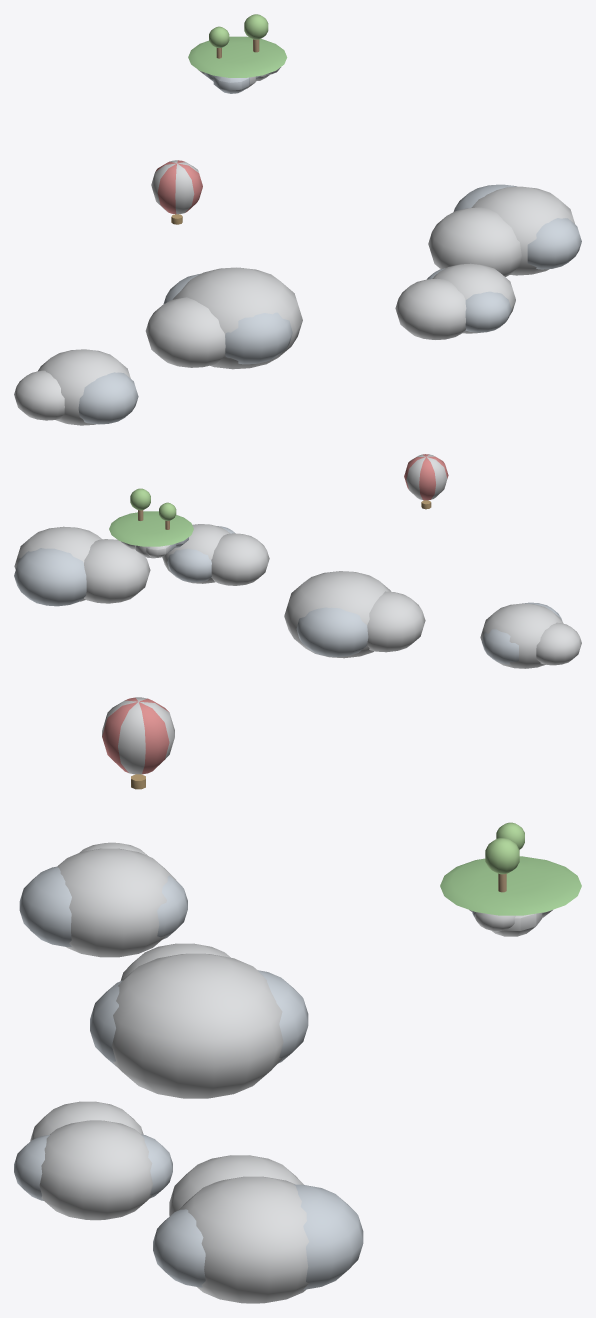
File: clouds-near.glb
The picture shows the model from 3 angles, top to bottom: view 1: azimuth 30°, elevation 25°; view 2: azimuth 150°, elevation 25°; view 3: azimuth 270°, elevation 25°; orthographic projection. The views are drawn at different scales.
Visible parts, largest first — view 1: clouds-near; view 2: clouds-near; view 3: clouds-near.
Boxes of the visible parts, left/top/right/bottom form: clouds-near: left=14, top=14, right=581, bottom=425; clouds-near: left=14, top=454, right=581, bottom=668; clouds-near: left=14, top=697, right=581, bottom=1303.
Size of the model in its own units: 69.15 by 26.05 by 39.65.
